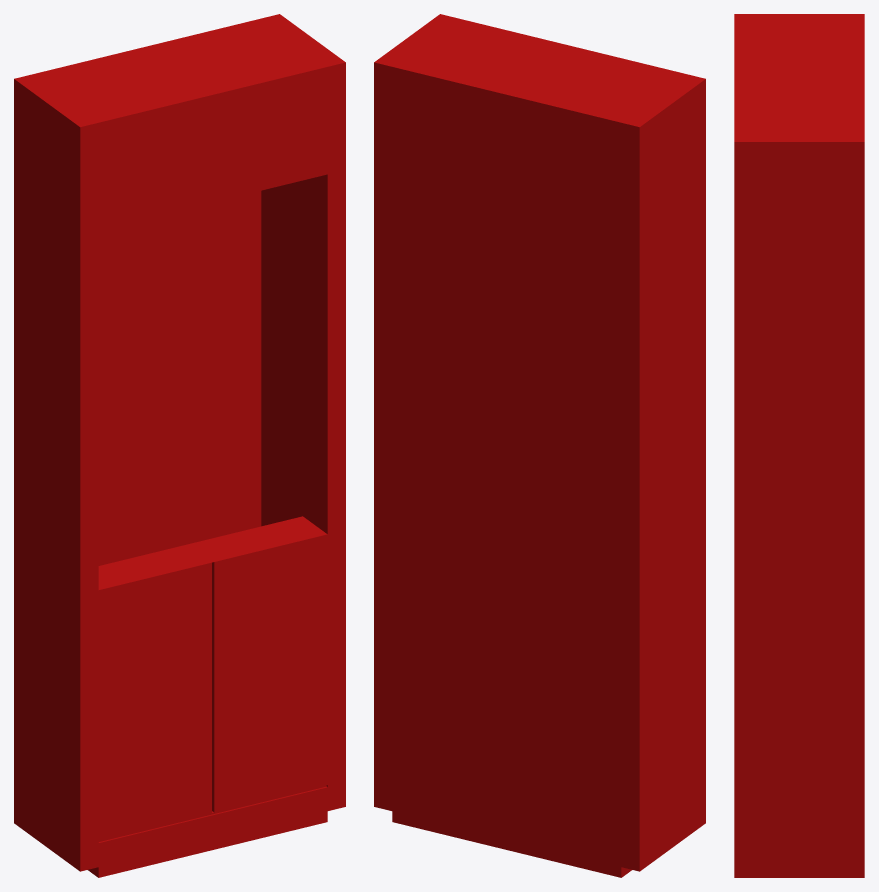
File: Counter_8_Exhibition_Cab_5_Red.FBX
3 renders of one model, left to right at view 1: azimuth 30°, elevation 25°; view 2: azimuth 150°, elevation 25°; view 3: azimuth 270°, elevation 25°, orthographic.
Parts seen in each view (by area): view 1: Counter_8_Exhibition_Cab_5_Red; view 2: Counter_8_Exhibition_Cab_5_Red; view 3: Counter_8_Exhibition_Cab_5_Red.
Part boxes in pixels (x1,y1,x2,y2): Counter_8_Exhibition_Cab_5_Red: (14,14,345,877); Counter_8_Exhibition_Cab_5_Red: (374,14,705,877); Counter_8_Exhibition_Cab_5_Red: (734,14,864,877).
Size of the model in its own units: 116 by 315 by 50.
